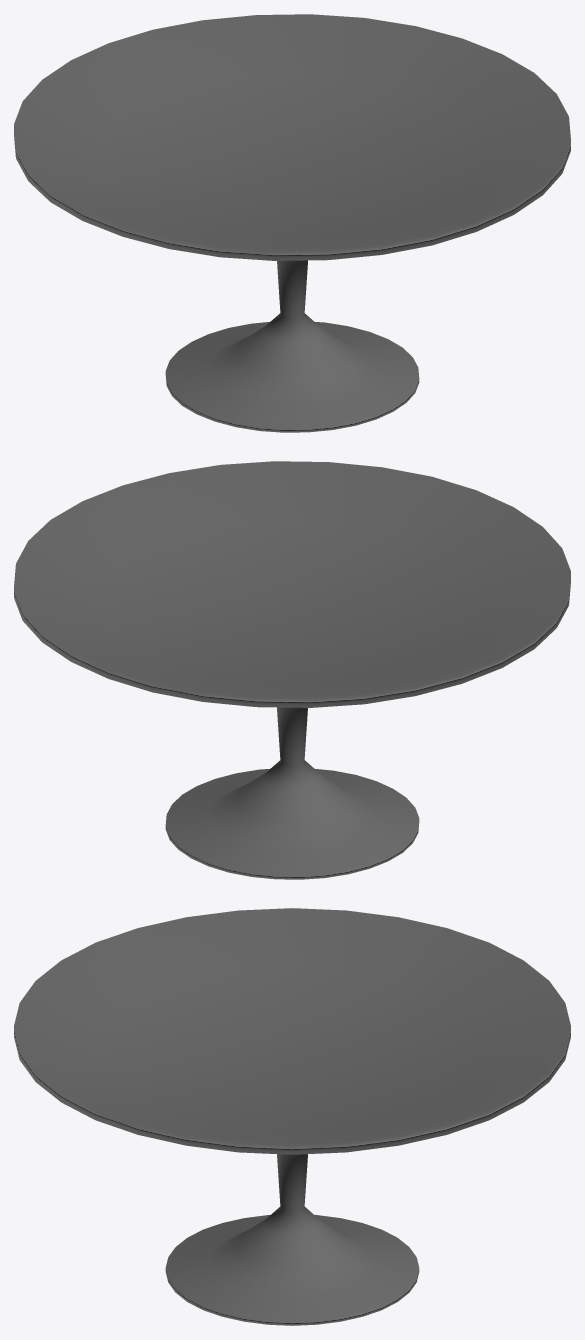
Rendered from dish.glb.
3 views of the same model, one above another, from view 1: azimuth 30°, elevation 25°; view 2: azimuth 150°, elevation 25°; view 3: azimuth 270°, elevation 25° (orthographic).
Visible parts, largest first — view 1: pCylinder15; view 2: pCylinder15; view 3: pCylinder15.
Boxes of the visible parts, x1=… form: pCylinder15: x1=14, y1=14, x2=570, y2=432; pCylinder15: x1=14, y1=461, x2=570, y2=879; pCylinder15: x1=14, y1=908, x2=570, y2=1325.
Bounding box in the file's own units: 91.88 × 44.85 × 91.88.
Materials: 1 (1 with a texture image).
